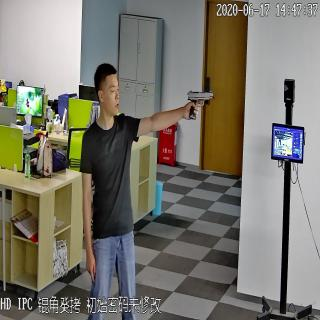gun: (183, 87, 213, 119)
